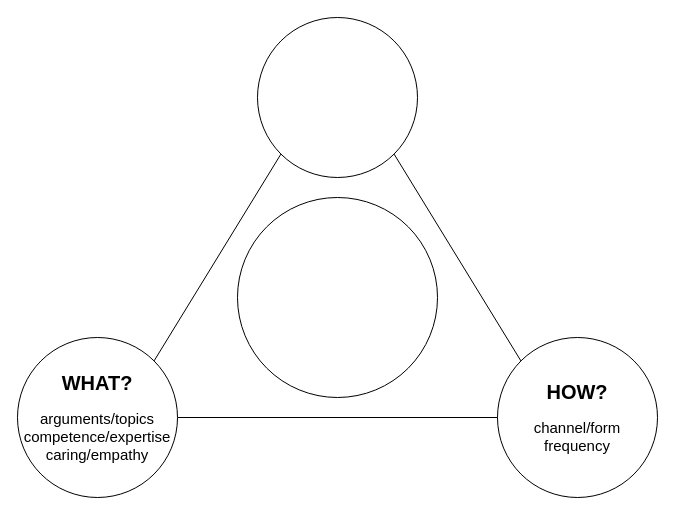
Image size: 675x515. Some labels were removed from this diagram. Here are the shapes that lost their labels. From the top down, the centre of each, then its label:
pixel 337 97: WHY? strategy
pixel 337 297: STAKEHOLDERS
